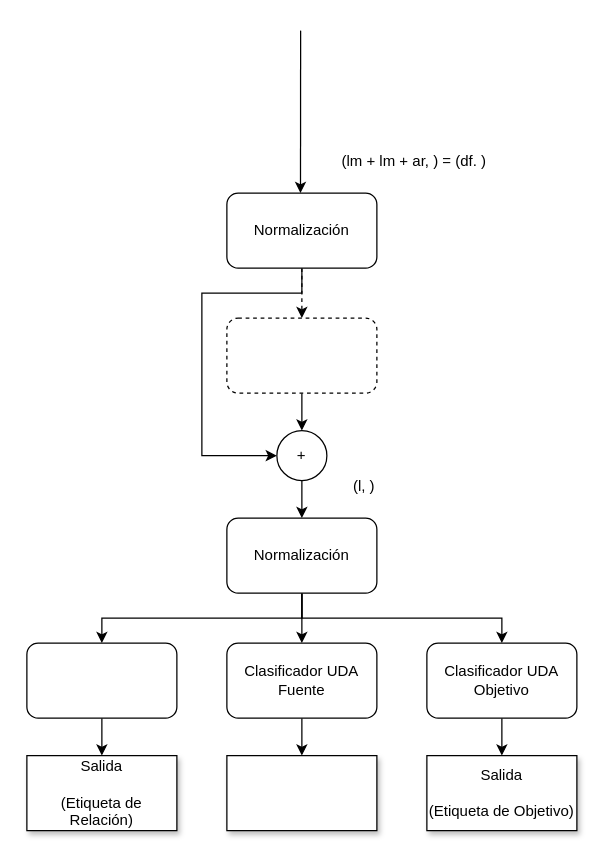
Some shapes in this 606 by 861 pixel diagram are drawn without their labels. Here are the shapes that lost their labels. From the top down, the centre of each, then its label:
(x=301, y=355): Capa Densa
(x=101, y=680): Clasificador Relación
(x=302, y=794): Salida (Etiqueta de Fuente)
